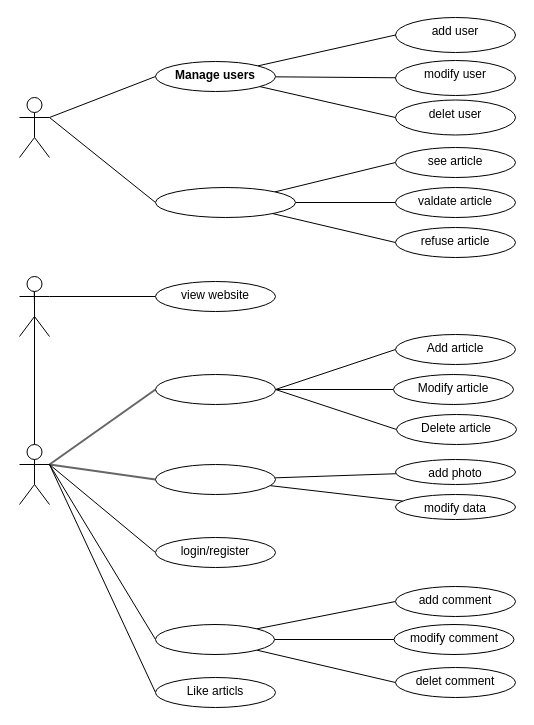
Some shapes in this 534 by 725 pixel diagram are drawn without their labels. Here are the shapes that lost their labels. From the top down, the centre of each, then its label:
At pixel 34 127: "Admin".
At pixel 225 202: "Manage user article".
At pixel 34 306: "visitor".
At pixel 215 389: "Manage Article".
At pixel 34 474: "User".
At pixel 215 479: "Manage profile".
At pixel 214 639: "Mange comment".
